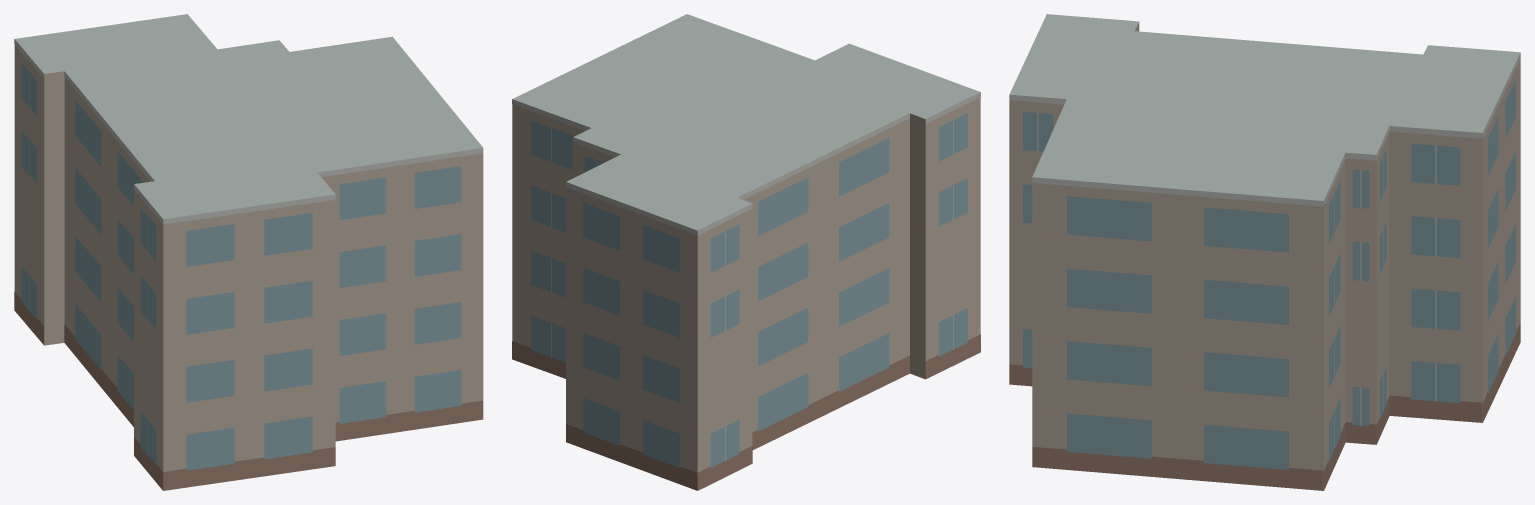
The model's file is survey-upis-32626766.glb.
3 renders of one model, left to right at view 1: azimuth 30°, elevation 25°; view 2: azimuth 150°, elevation 25°; view 3: azimuth 270°, elevation 25°, orthographic. The views are drawn at different scales.
Visible parts, largest first — view 1: survey-upis-32626766.tmp; view 2: survey-upis-32626766.tmp; view 3: survey-upis-32626766.tmp.
Part boxes in pixels (bbox=[...]): survey-upis-32626766.tmp: bbox=[14, 14, 483, 490]; survey-upis-32626766.tmp: bbox=[512, 14, 980, 490]; survey-upis-32626766.tmp: bbox=[1009, 14, 1520, 490].
Size of the model in its own units: 17.17 by 12.4 by 19.84.
